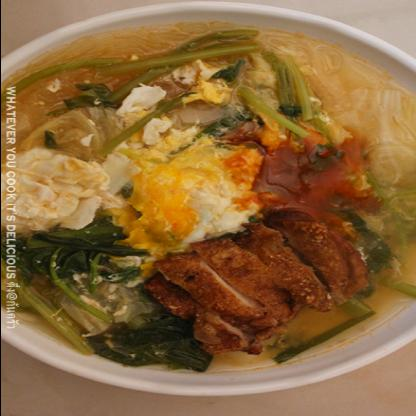Suki: (16, 19, 415, 368)
